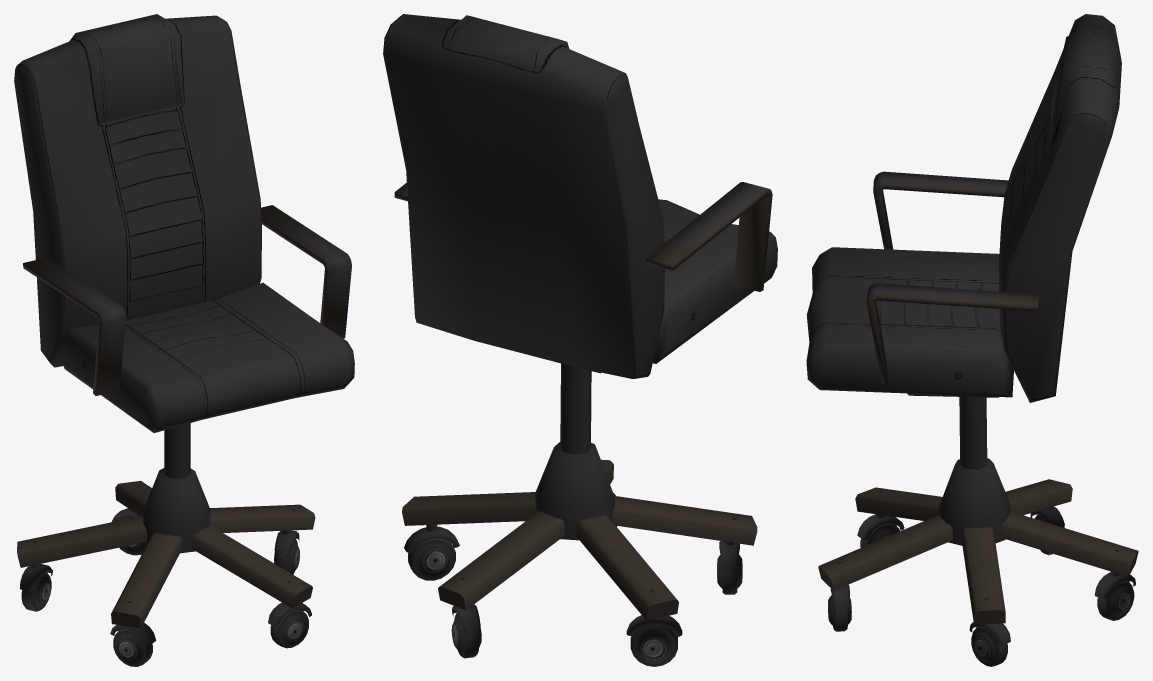
File: Office_chair.FBX
3 renders of one model, left to right at view 1: azimuth 30°, elevation 25°; view 2: azimuth 150°, elevation 25°; view 3: azimuth 270°, elevation 25°, orthographic. The views are drawn at different scales.
Parts seen in each view (by area): view 1: Chair_2, Chair_1; view 2: Chair_2, Chair_1; view 3: Chair_2, Chair_1.
Part boxes in pixels (x1,y1,x2,y2): Chair_2: [14, 14, 354, 432]; Chair_1: [17, 423, 315, 666]; Chair_2: [383, 14, 777, 378]; Chair_1: [402, 363, 757, 666]; Chair_2: [806, 14, 1121, 402]; Chair_1: [818, 397, 1138, 666].
Bounding box in the file's own units: 30.56 × 59.96 × 32.31.
